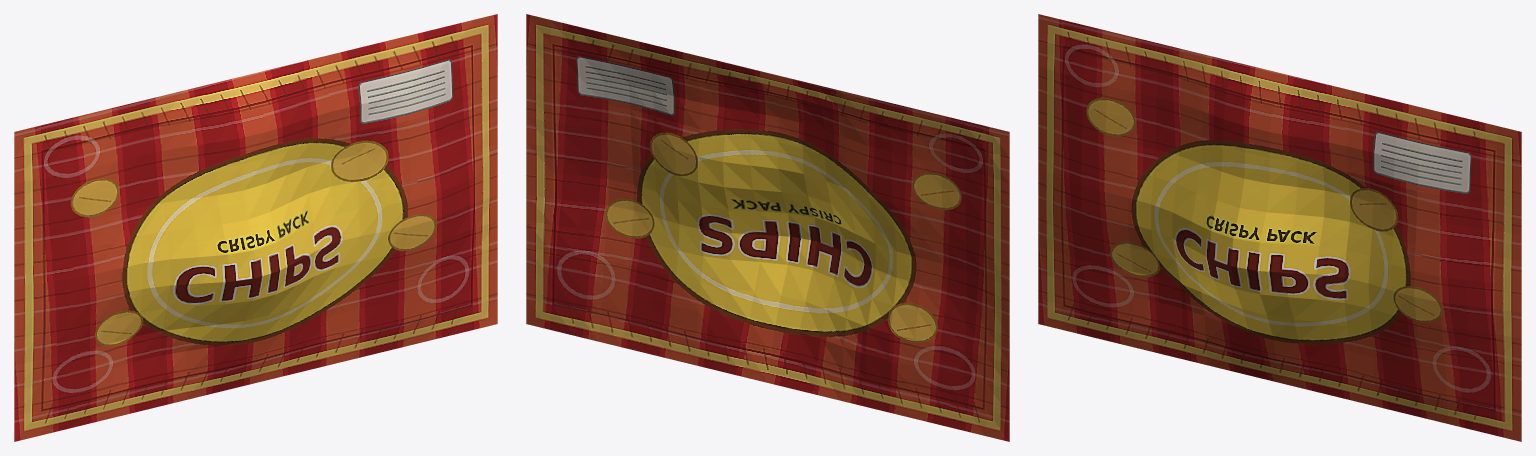
Rendered from paper_packaging.obj.
3 renders of one model, left to right at view 1: azimuth 30°, elevation 25°; view 2: azimuth 150°, elevation 25°; view 3: azimuth 330°, elevation 25°, orthographic.
Bounding box in the file's own units: 0.62 × 0.38 × 0.0557.
1 material, 1 textured.
